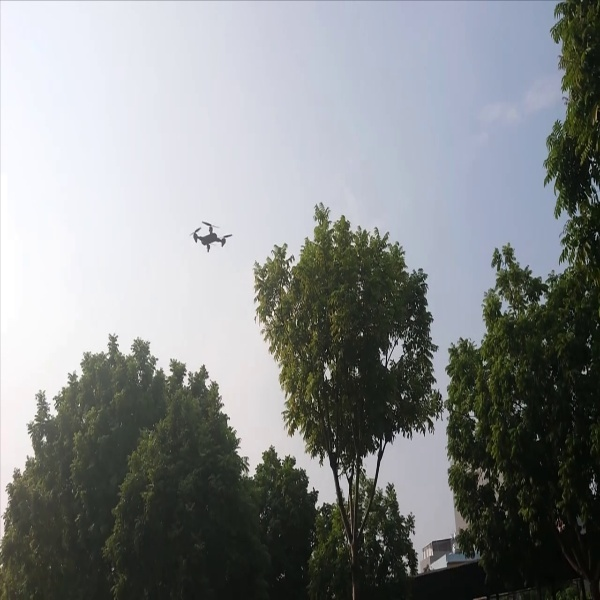drone: (183, 213, 235, 259)
